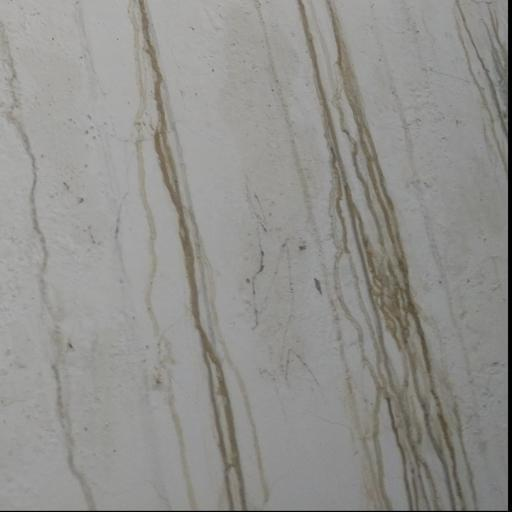stain: (261, 0, 491, 512), (74, 7, 299, 512), (4, 26, 104, 512), (447, 0, 512, 196)
